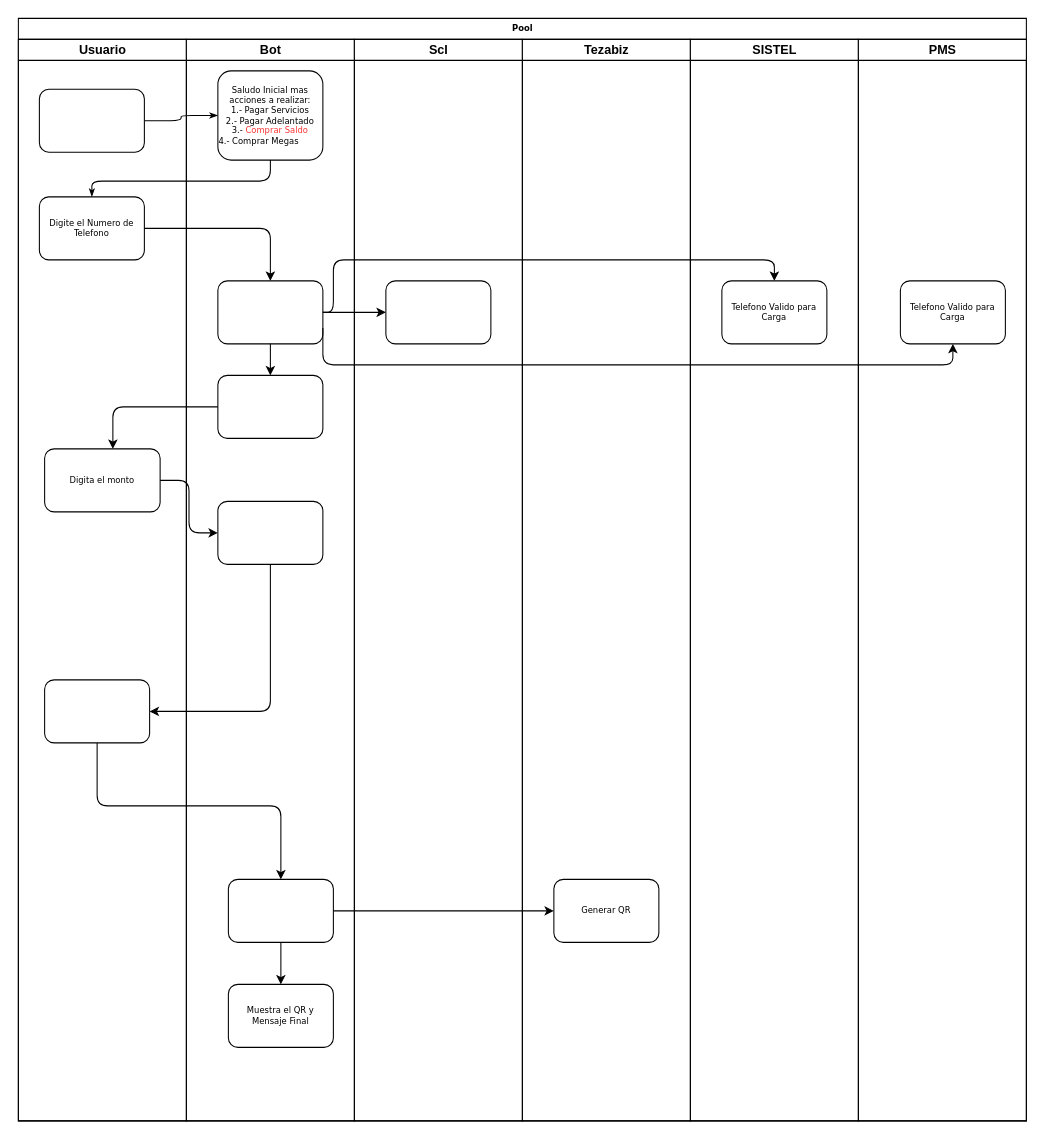
The diagram is 1045 pixels wide and 1139 high, and some of its shapes have lost their labels. Each missing label, with the centre of its shape:
"Buscar Teléfono y Validación" goes at point (270, 312).
"Conforma el Monto" goes at point (97, 711).
"Contrato Telefonico Valido para facturar" goes at point (438, 312).
"Genera el QR" goes at point (280, 910).
"Ingresa a Whatapps o Telegram o Facebook" goes at point (91, 120).
"Mensaje de Confirmación de Monto" goes at point (270, 532).
"Pregunta el Monto a Cargar" goes at point (270, 406).
